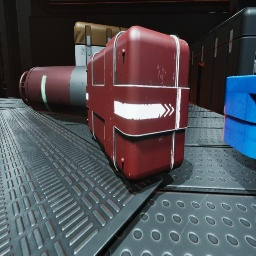FirstAidBox ,: (86, 26, 190, 185)
NitrogenTank ,: (19, 66, 88, 118)
